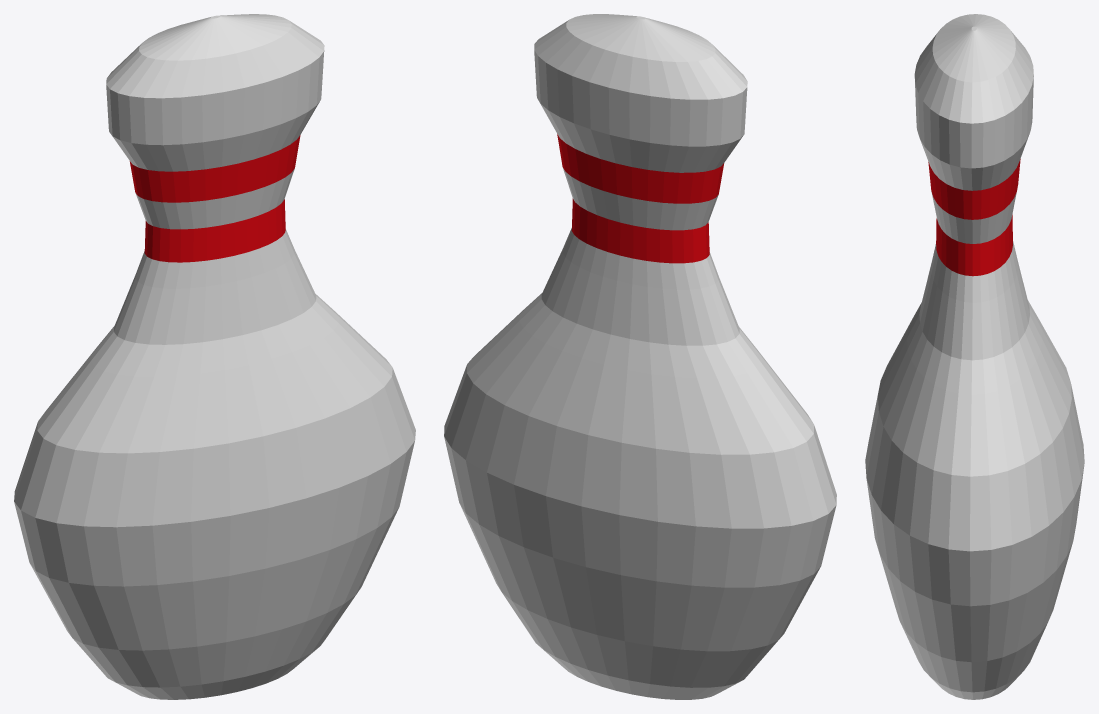
Rendered from prova1.glb.
3 views of the same model, side by side, from view 1: azimuth 30°, elevation 25°; view 2: azimuth 150°, elevation 25°; view 3: azimuth 270°, elevation 25° (orthographic). The views are drawn at different scales.
Parts seen in each view (by area): view 1: Cylinder; view 2: Cylinder; view 3: Cylinder.
Part boxes in pixels (left/top/right/bottom): Cylinder: left=14, top=14, right=415, bottom=699; Cylinder: left=444, top=14, right=836, bottom=699; Cylinder: left=865, top=14, right=1084, bottom=699.
Size of the model in its own units: 1.39 by 2.29 by 0.7182.
